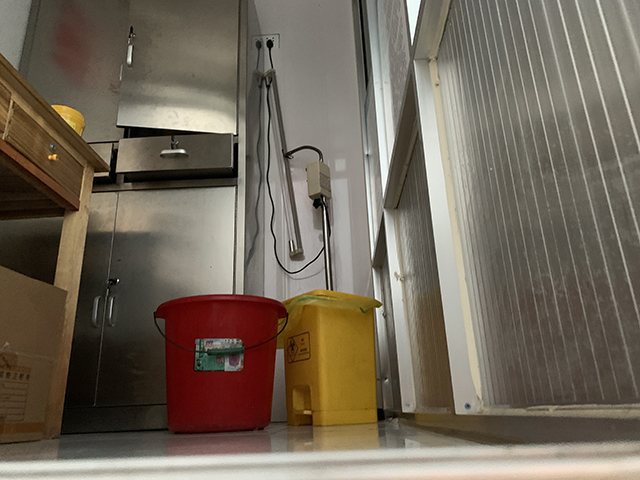cabinet: (1, 1, 265, 436)
table: (1, 52, 112, 441)
trashcan: (278, 289, 384, 428)
